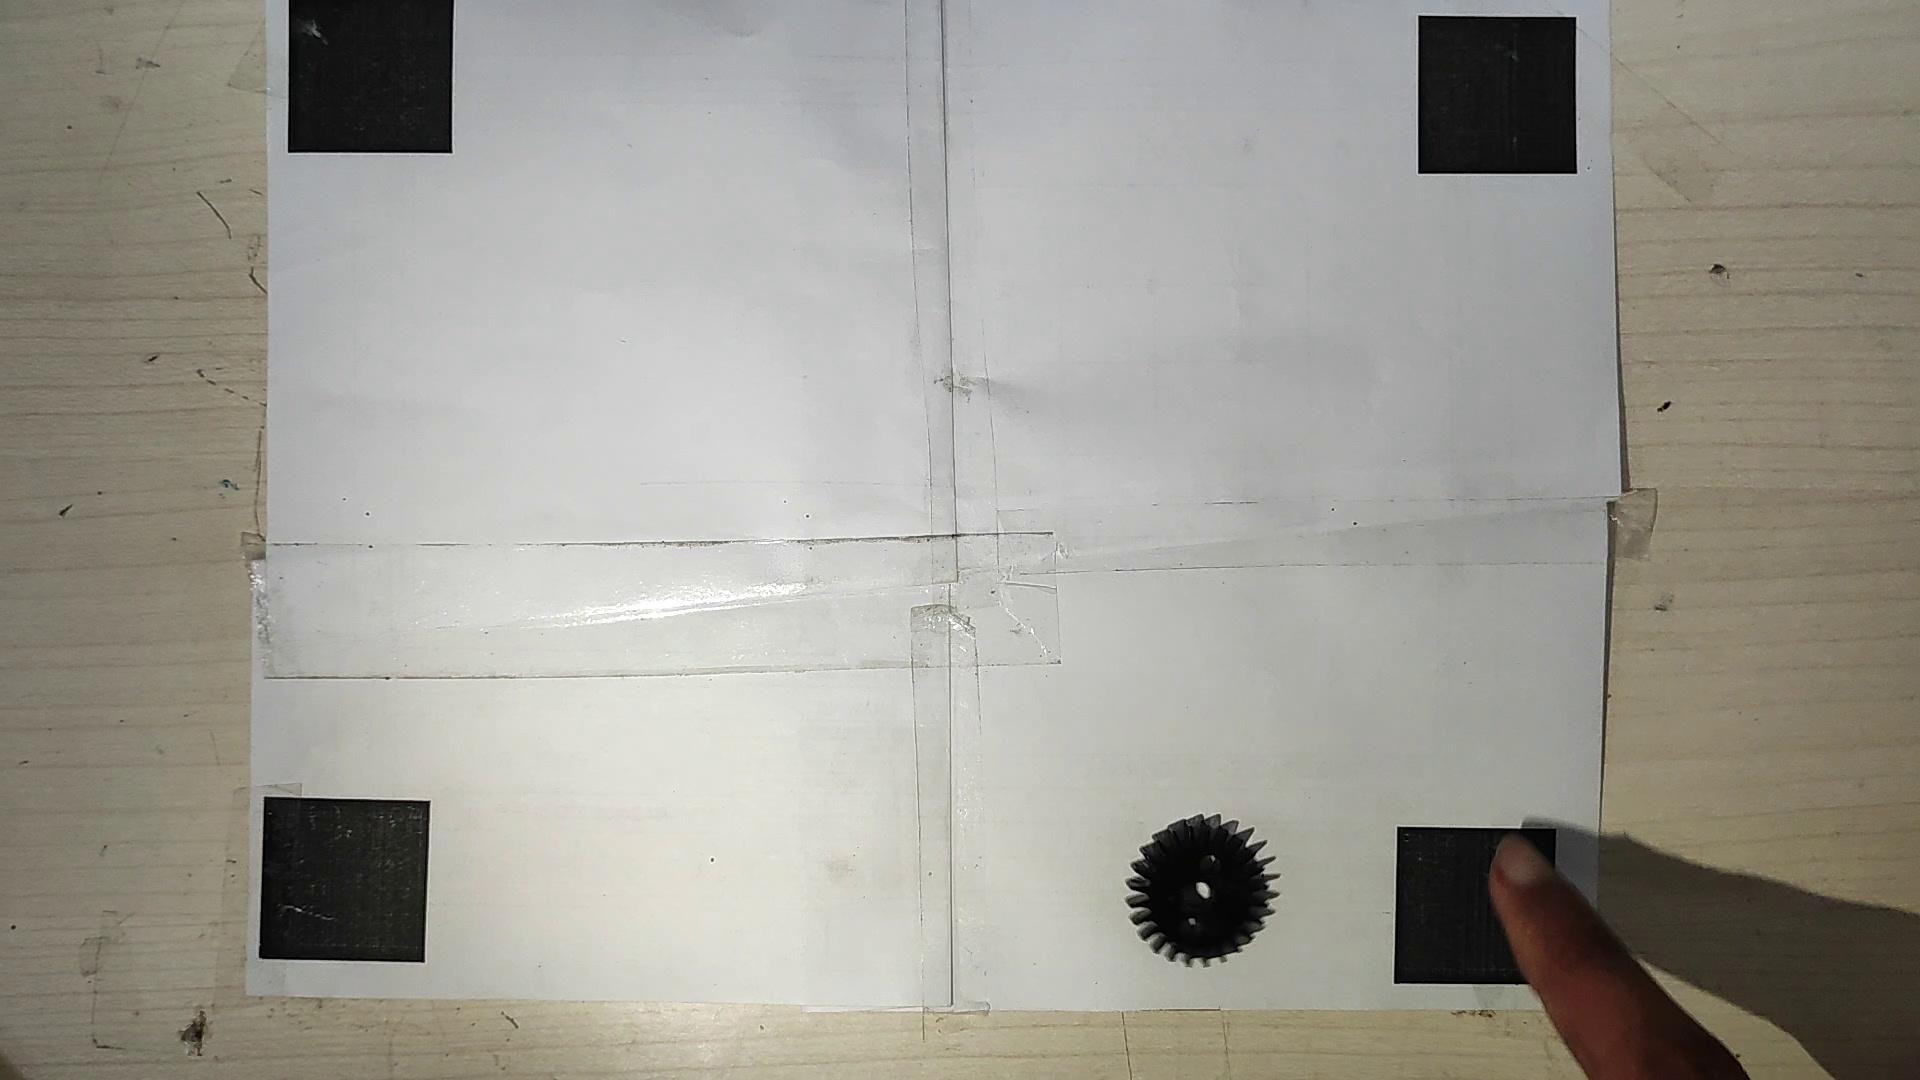Gear: (1118, 814, 1283, 972)
